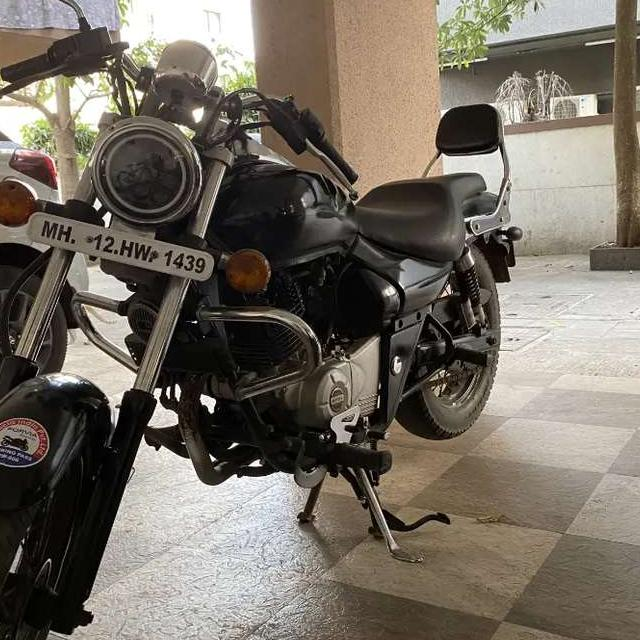Indian_Number_Plate: (28, 213, 214, 282)
